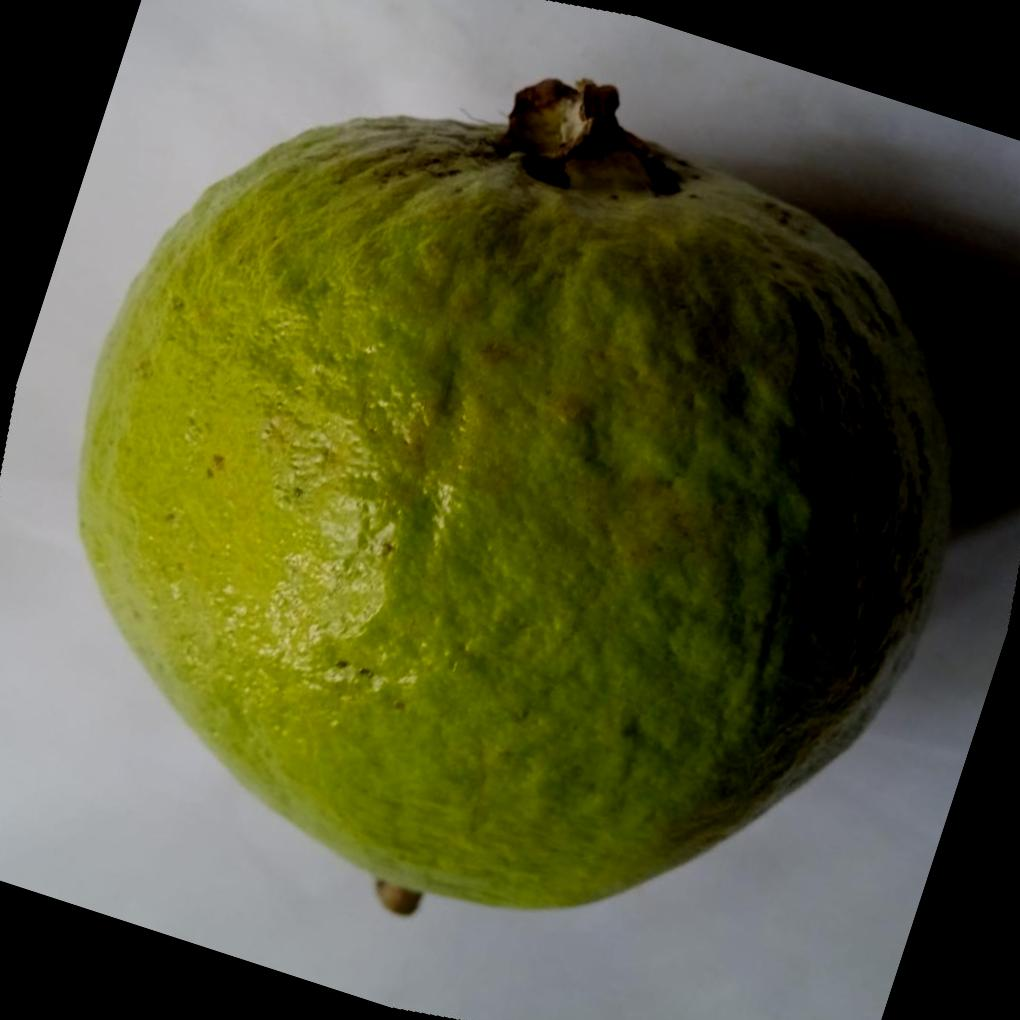FreshGuava: (75, 73, 956, 911)
